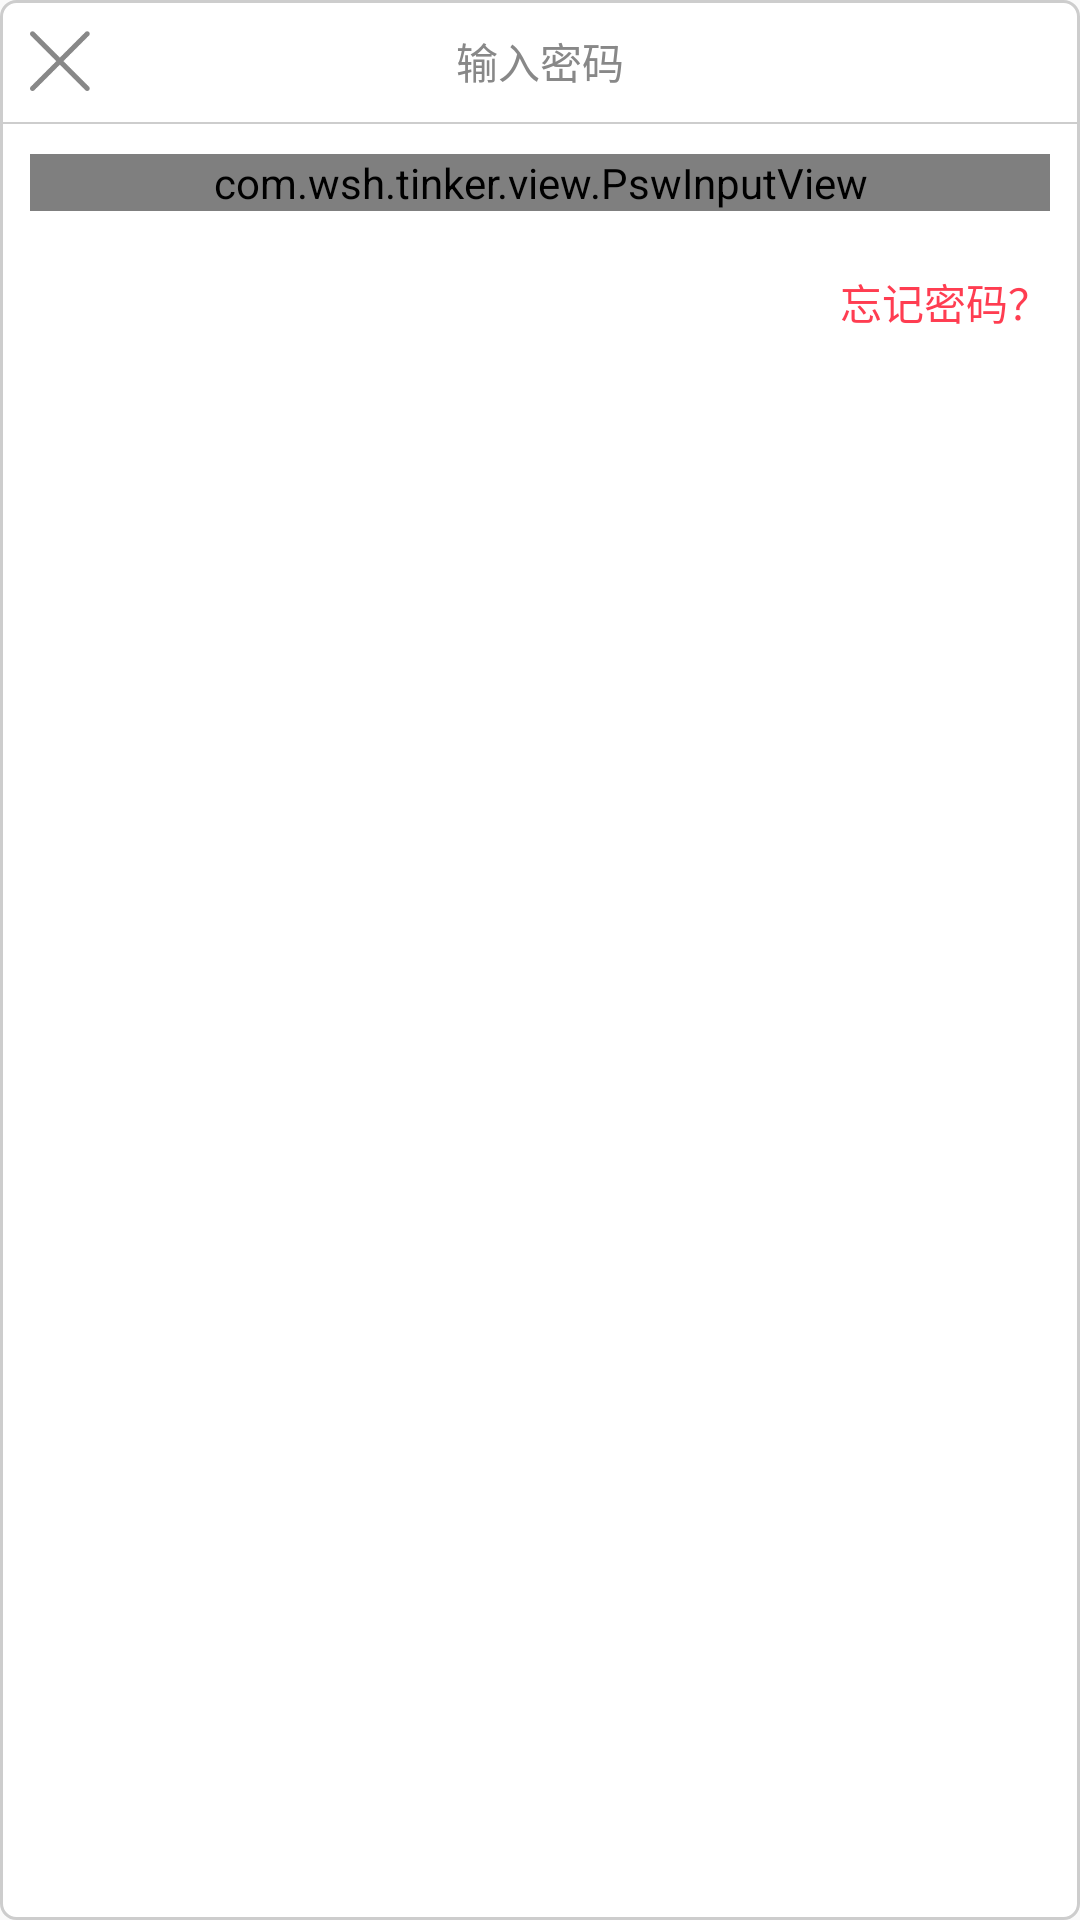

Point at icon controls on the screen. Image size 1080*1920, points as (x,y).
bclose: (60,61)
